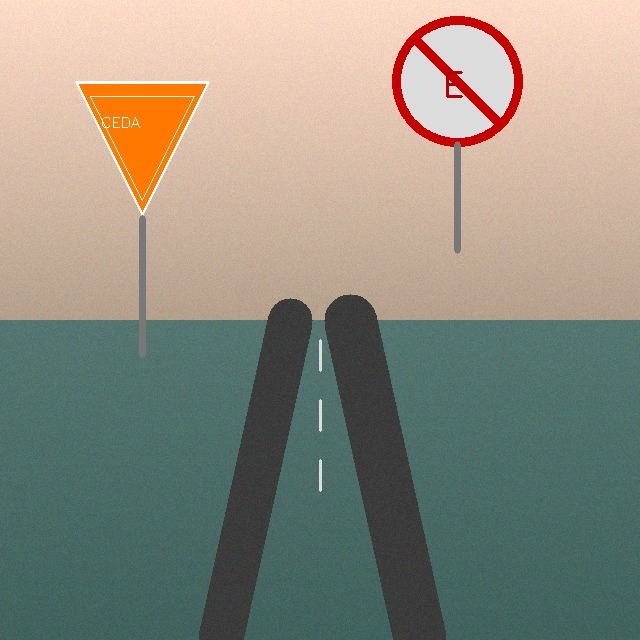ceda_el_paso: (72, 78, 212, 218)
no_estacionar: (394, 18, 520, 144)
